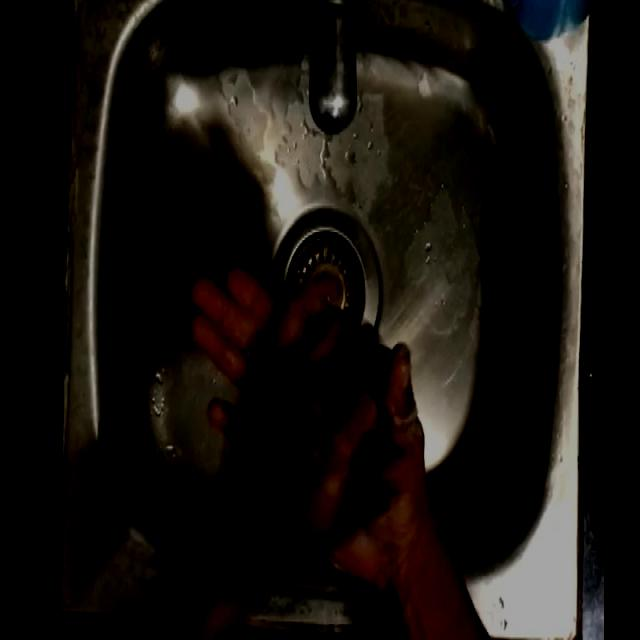step_5: (179, 255, 425, 568)
